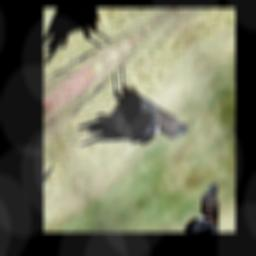Crow: (62, 44, 192, 197)
